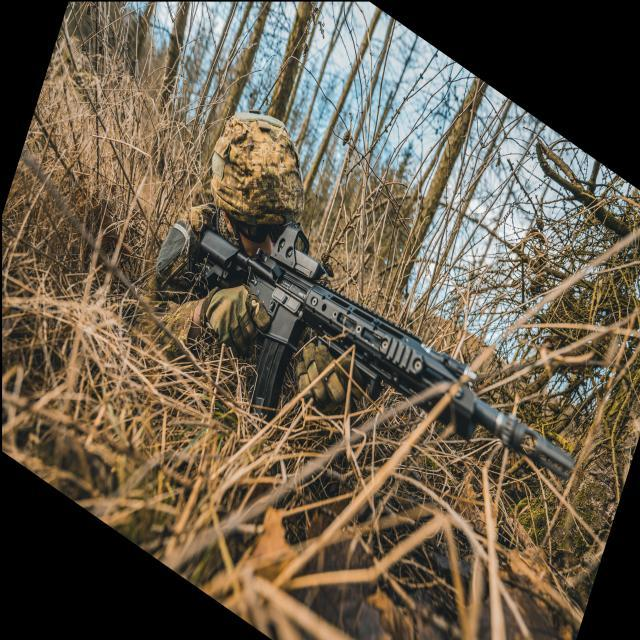weapon: (200, 228, 577, 484)
